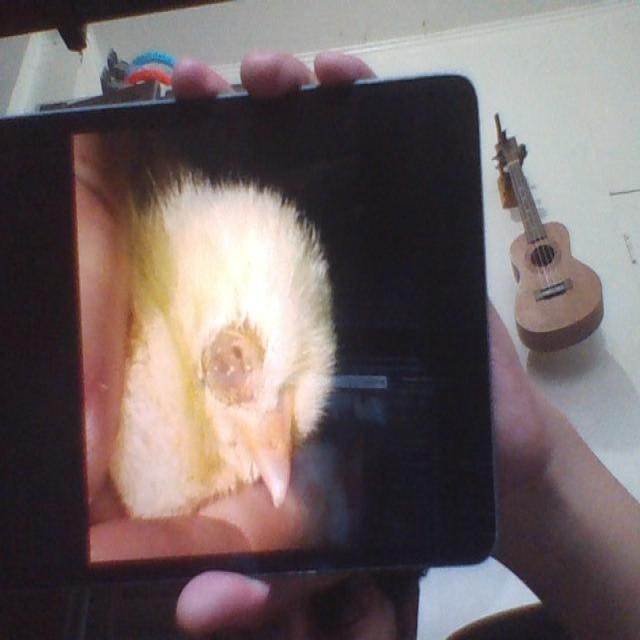Sick: (90, 177, 340, 533)
